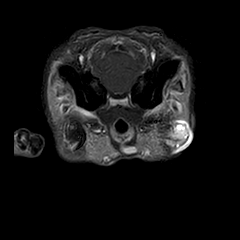Brain: (69, 16, 168, 114)
